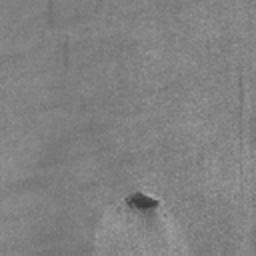Iron sheet ash: (124, 189, 159, 210)
